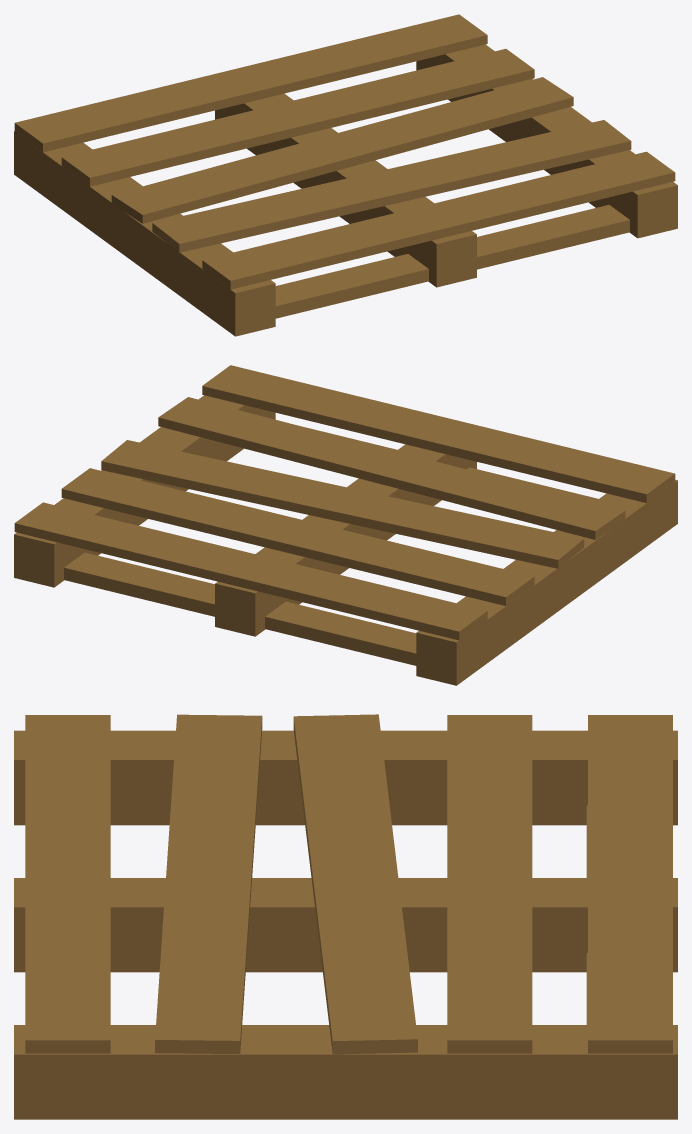
Rendered from Pallet.glb.
The picture shows the model from 3 angles, top to bottom: view 1: azimuth 30°, elevation 25°; view 2: azimuth 150°, elevation 25°; view 3: azimuth 270°, elevation 25°; orthographic projection. The views are drawn at different scales.
Visible parts, largest first — view 1: Pallet; view 2: Pallet; view 3: Pallet.
Boxes of the visible parts, x1=… form: Pallet: x1=14, y1=14, x2=677, y2=336; Pallet: x1=14, y1=365, x2=677, y2=685; Pallet: x1=14, y1=714, x2=677, y2=1119.
Size of the model in its own units: 1.7 by 0.1932 by 1.46.
